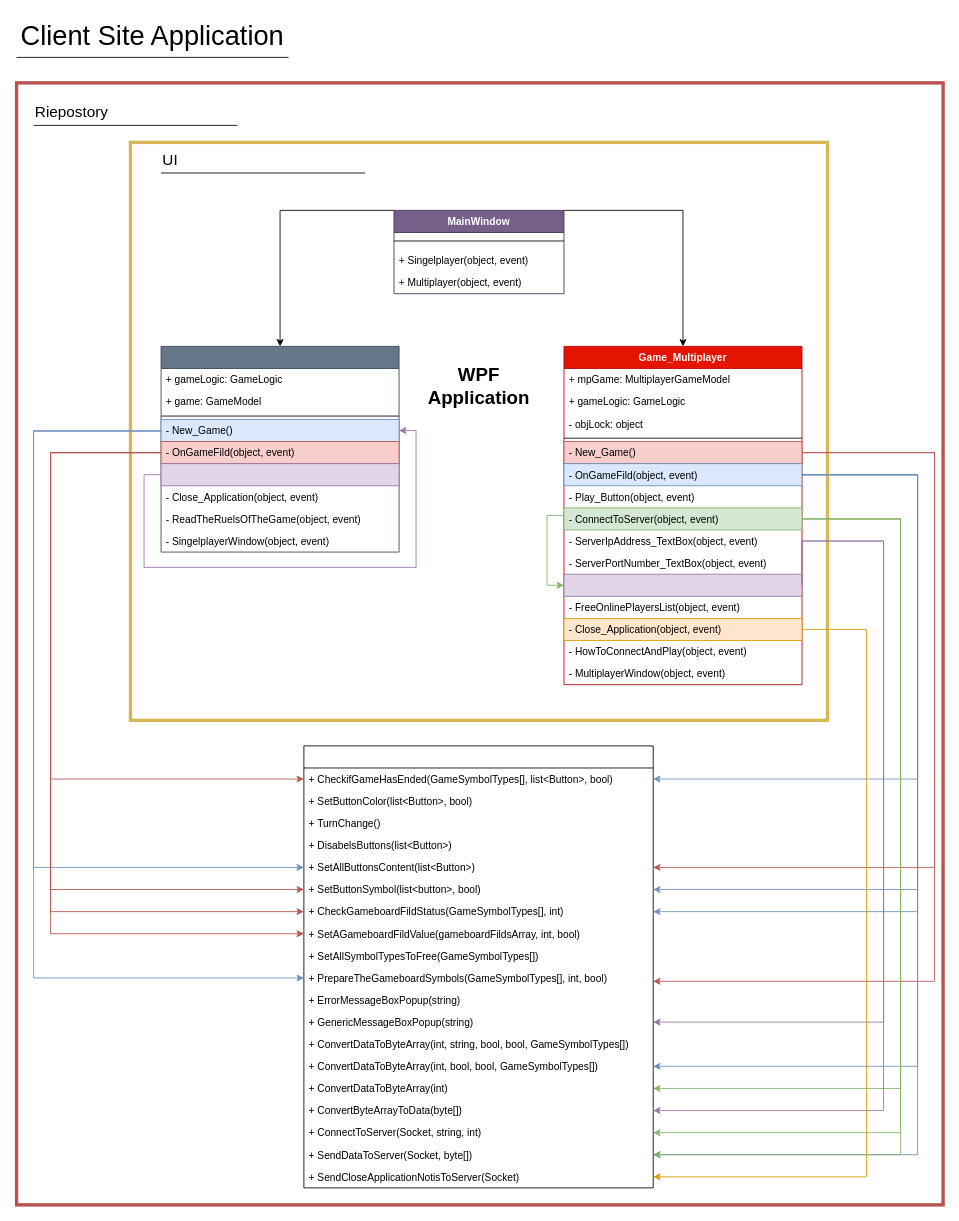
The diagram is 959 pixels wide and 1221 high, and some of its shapes have lost their labels. Each missing label, with the box of its shape:
+ LisenToServerMessage(): (563, 573, 802, 596)
- PlayANewGame(object, event): (160, 463, 399, 486)
Game_Singelplayer: (160, 346, 399, 552)
GameLogic: (303, 745, 653, 1188)
